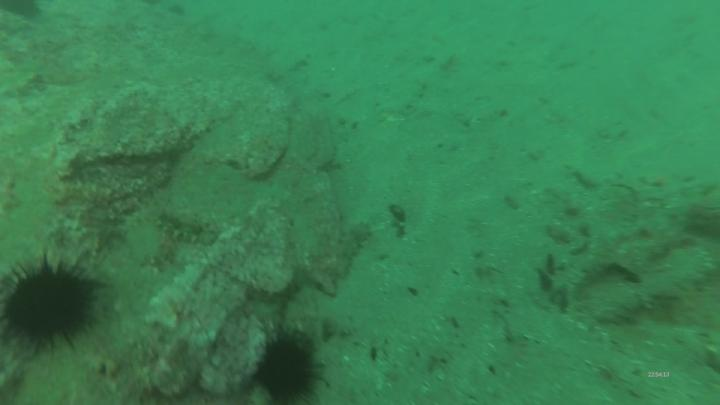echinus: (6, 269, 98, 341), (258, 335, 315, 404)
holothurian: (333, 223, 372, 278), (159, 214, 220, 245), (49, 180, 117, 207)
